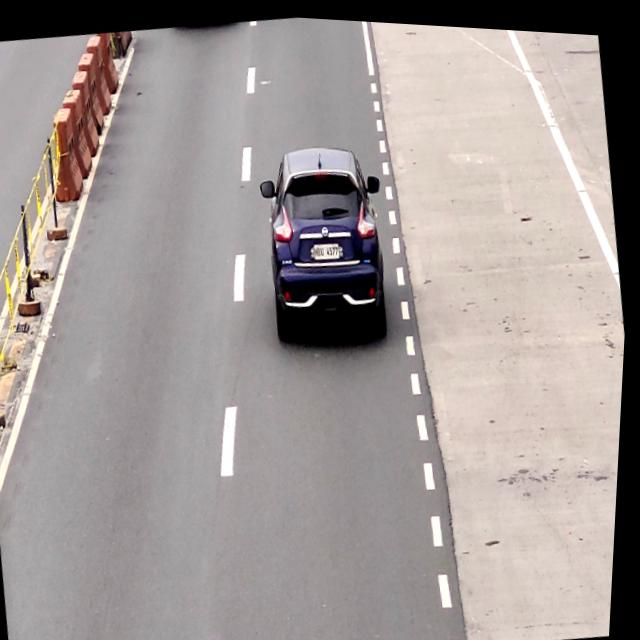Car: (252, 135, 405, 355)
License-Plate: (314, 234, 347, 262)
